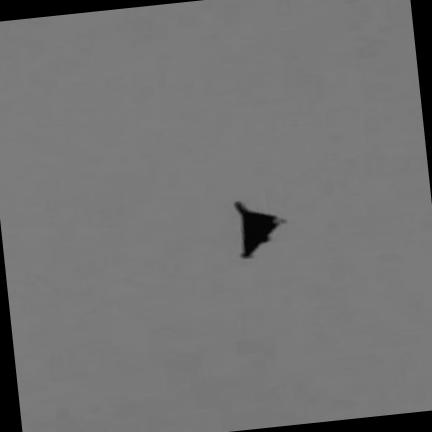Shahed: (234, 202, 285, 258)
